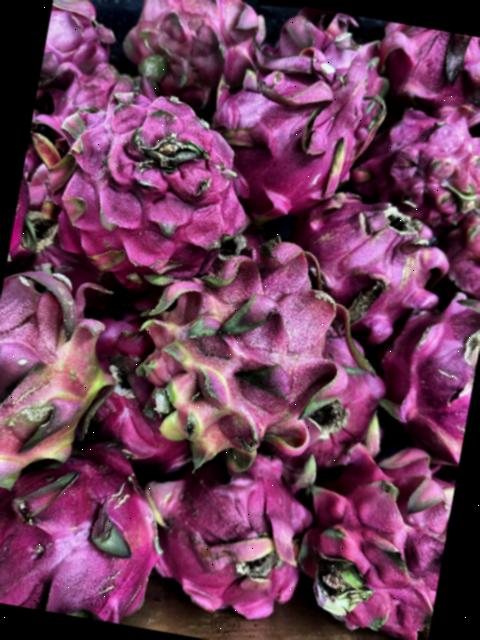buah-naga-belum-matang: (126, 219, 364, 475), (0, 258, 131, 506)
buah-naga-matang: (23, 87, 260, 296), (189, 32, 379, 224), (132, 440, 318, 624), (296, 433, 459, 640), (0, 453, 173, 629), (284, 182, 457, 346), (110, 0, 281, 110), (377, 288, 480, 467), (359, 92, 480, 225), (367, 20, 480, 126), (37, 0, 123, 103)
